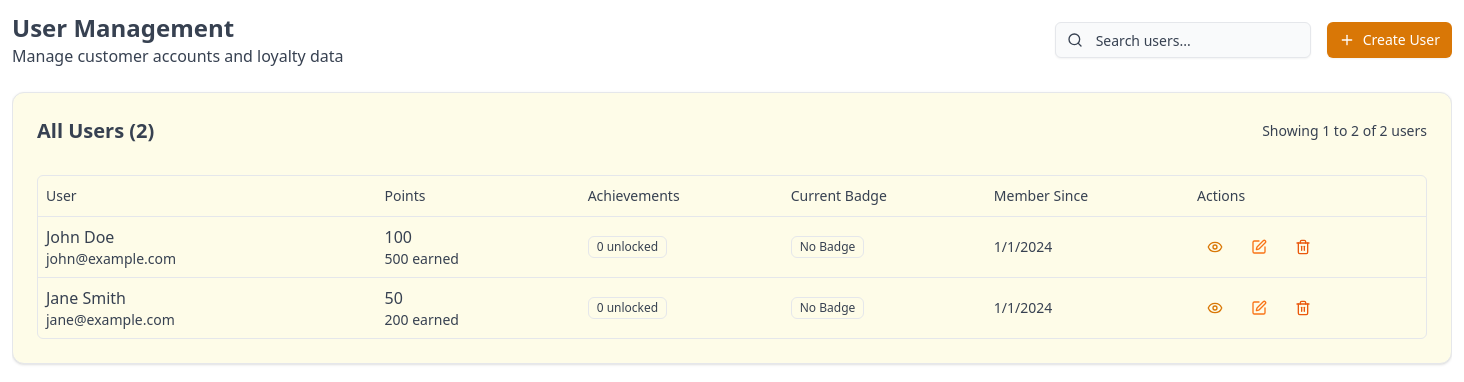
Test: UserManagement Component › filters users based on search term
Type "John" into the field with placeholder "Search users..." at (1183, 40), box [1055, 22, 1311, 58]
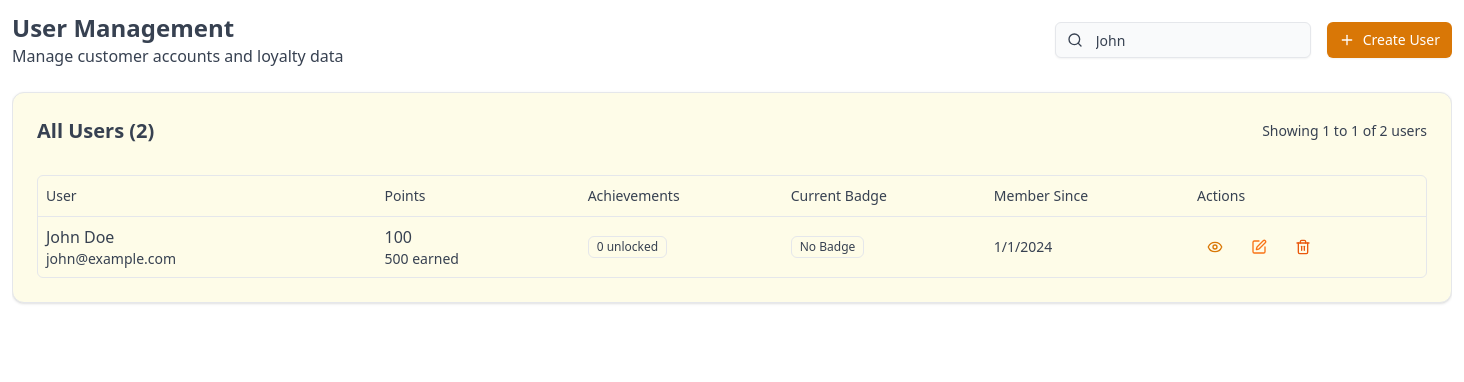
Expected: the text "John Doe" is shown, [46, 226, 114, 248]
Now the text "Jane Smith" is gone
